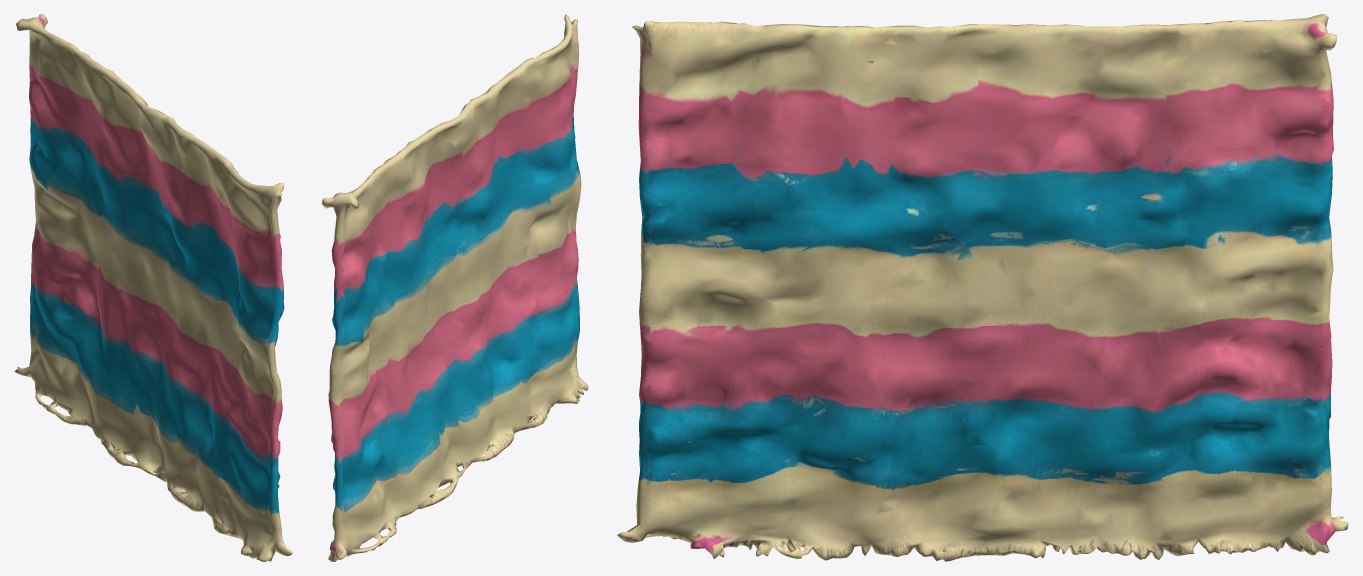
Rendered from room-striped-rug.glb.
The picture shows the model from 3 angles, left to right: view 1: azimuth 30°, elevation 25°; view 2: azimuth 150°, elevation 25°; view 3: azimuth 270°, elevation 25°; orthographic projection. The views are drawn at different scales.
Visible parts, largest first — view 1: tripo_node_fe48fdcb-ab81-4f4d-a23e-460ce4960c02; view 2: tripo_node_fe48fdcb-ab81-4f4d-a23e-460ce4960c02; view 3: tripo_node_fe48fdcb-ab81-4f4d-a23e-460ce4960c02.
Part boxes in pixels (box(x1,y1,x2,y2)): tripo_node_fe48fdcb-ab81-4f4d-a23e-460ce4960c02: box(14, 14, 292, 561); tripo_node_fe48fdcb-ab81-4f4d-a23e-460ce4960c02: box(321, 14, 588, 561); tripo_node_fe48fdcb-ab81-4f4d-a23e-460ce4960c02: box(617, 14, 1348, 561).
Size of the model in its own units: 0.0821 by 0.7804 by 0.9597.
1 material, 1 textured.
